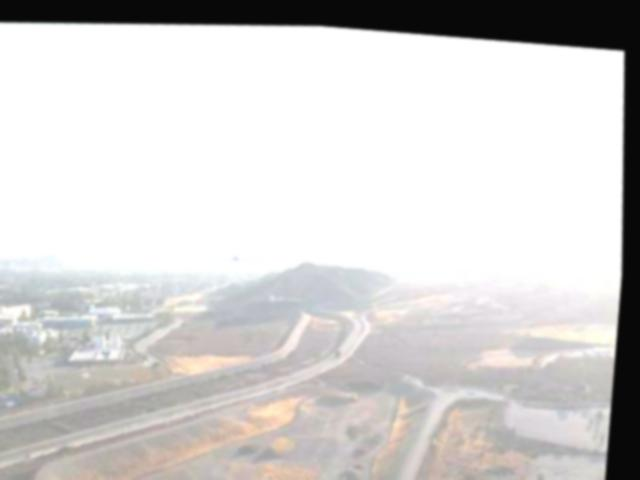iha: (200, 239, 271, 269)
